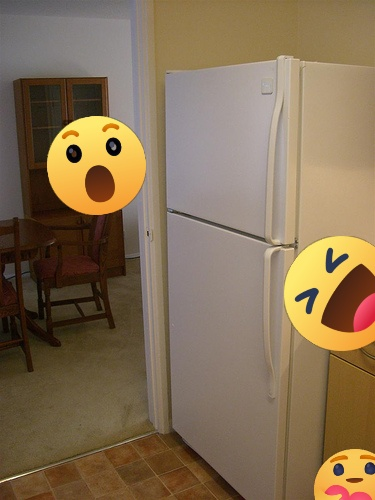care: (314, 449, 375, 500)
haha: (284, 236, 375, 351)
wow: (47, 116, 146, 215)
